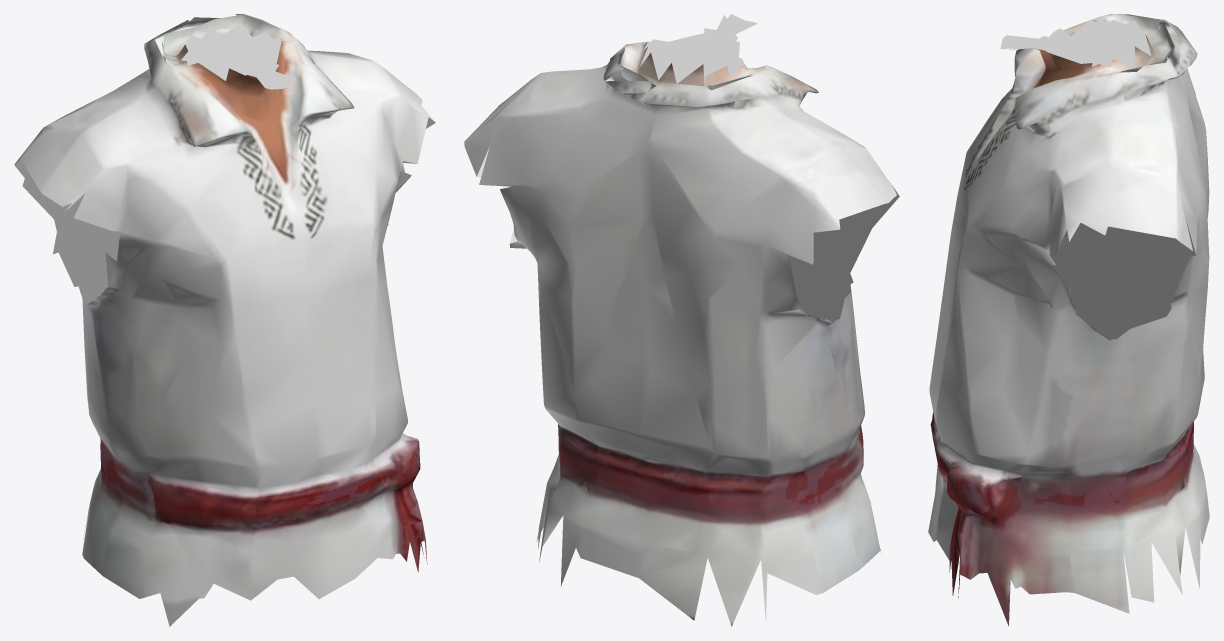
Rendered from transeunte_torso.obj.
3 views of the same model, side by side, from view 1: azimuth 30°, elevation 25°; view 2: azimuth 150°, elevation 25°; view 3: azimuth 270°, elevation 25° (orthographic). The views are drawn at different scales.
Visible parts, largest first — view 1: hombre_torso; view 2: hombre_torso; view 3: hombre_torso.
Boxes of the visible parts, left/top/right/bottom form: hombre_torso: left=14, top=14, right=435, bottom=626; hombre_torso: left=464, top=14, right=899, bottom=626; hombre_torso: left=928, top=14, right=1209, bottom=626.
Bounding box in the file's own units: 0.5068 × 0.6589 × 0.3217.
